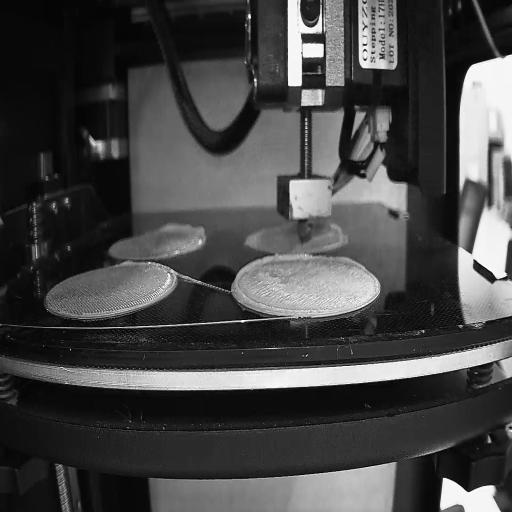over_extrusion: (232, 252, 316, 318), (158, 218, 207, 239), (328, 254, 368, 272), (327, 222, 344, 250), (116, 256, 134, 267)
